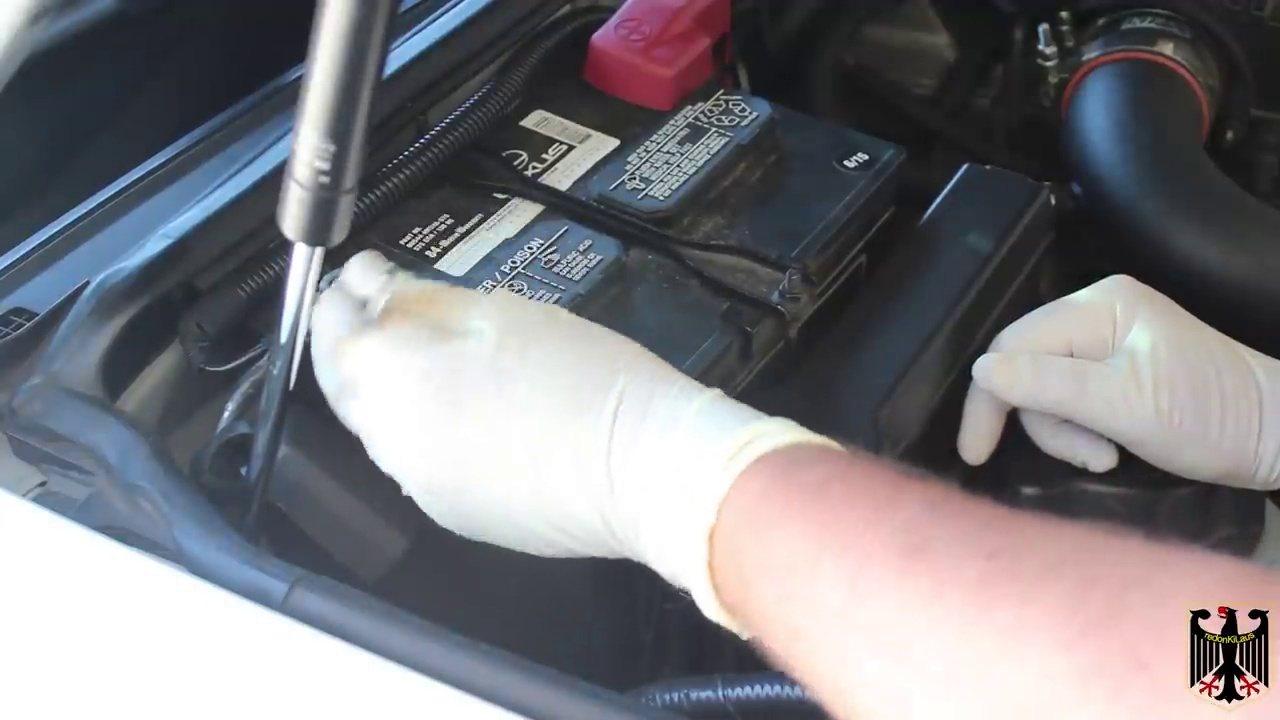battery: (299, 33, 904, 453)
pos_connected: (573, 4, 743, 132)
